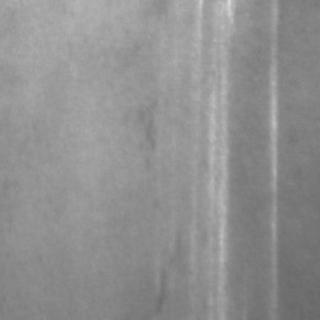scratches: (200, 7, 230, 304), (260, 0, 280, 304)
